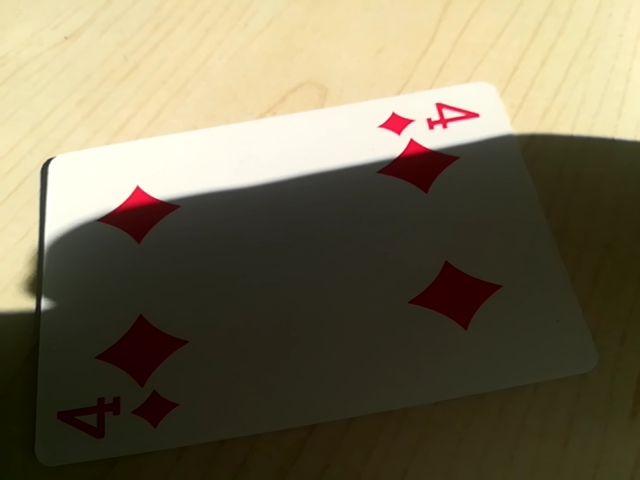fk 4: (41, 378, 181, 459), (374, 99, 491, 141)
